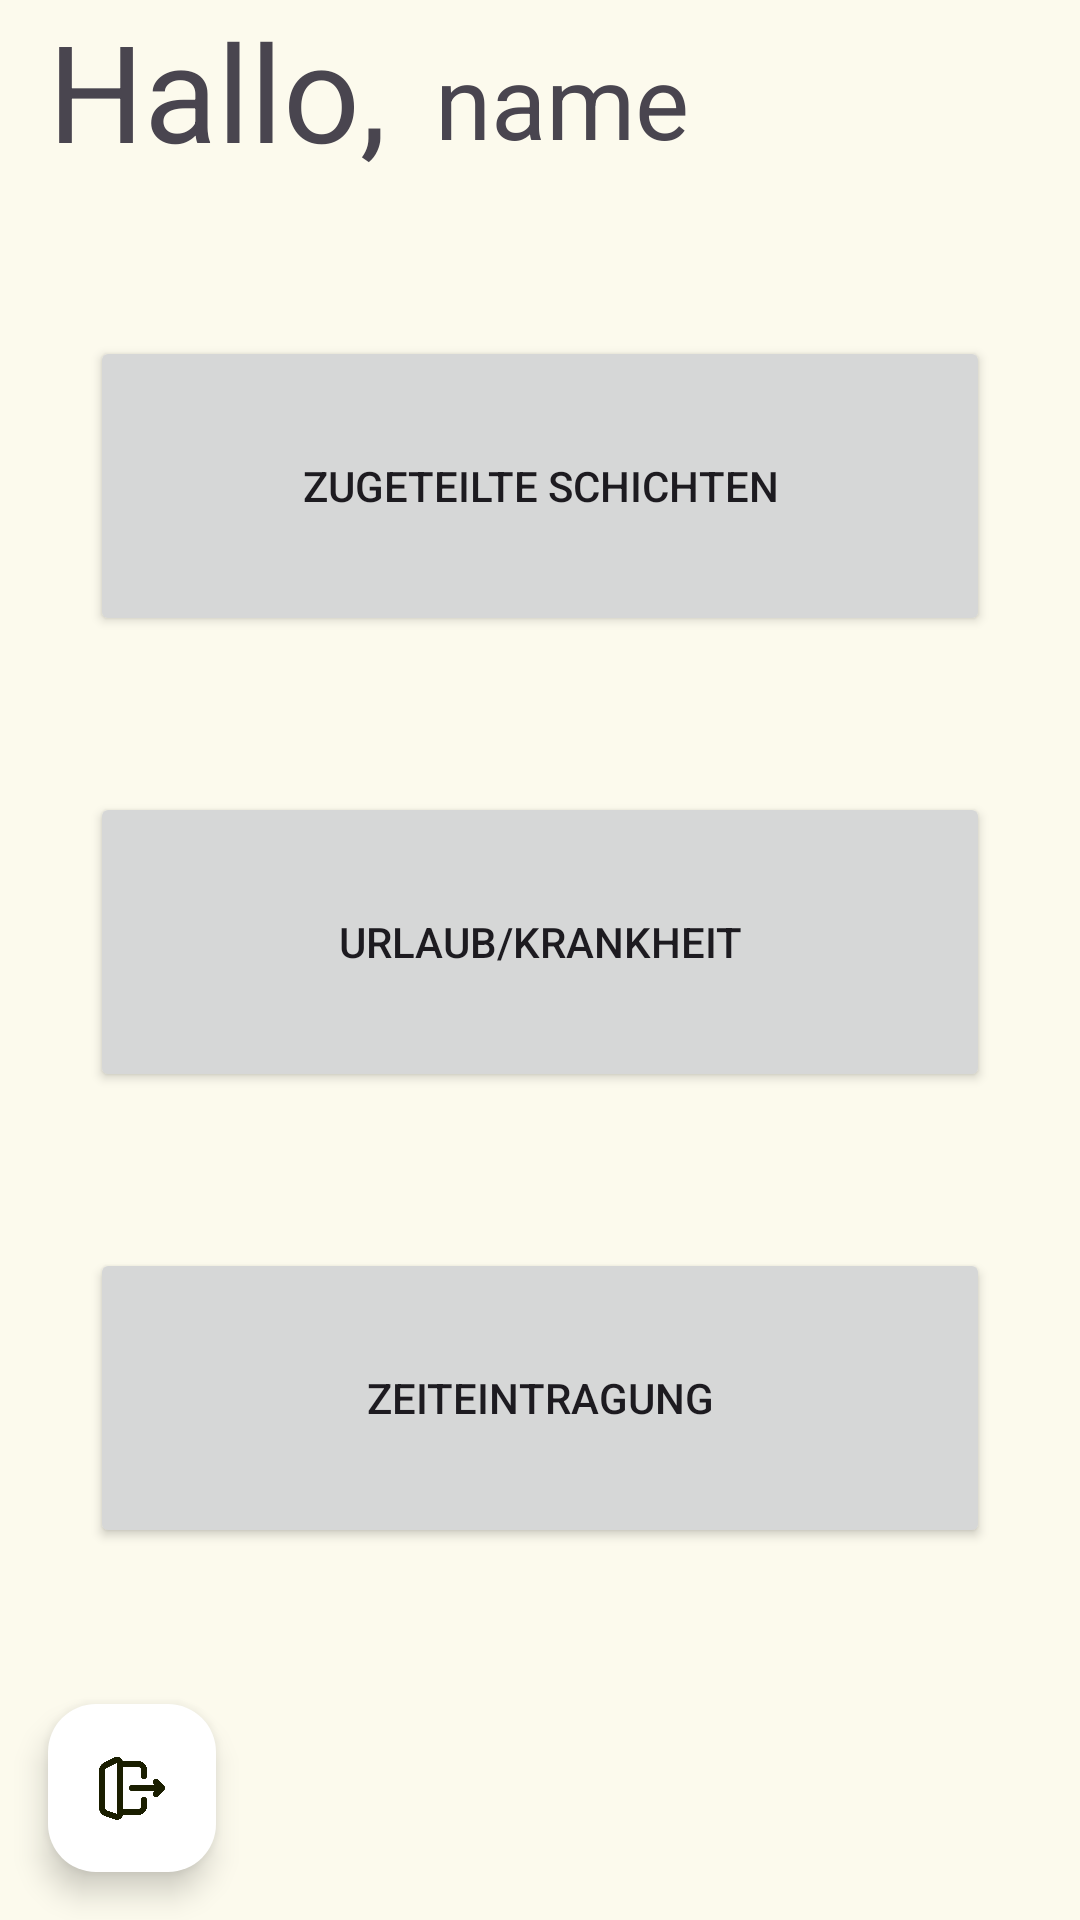

Where icons sit on this 1080px×1920px app screen, as Rect(x1, y1, x2, y2):
sign-out: Rect(48, 1704, 216, 1872)
